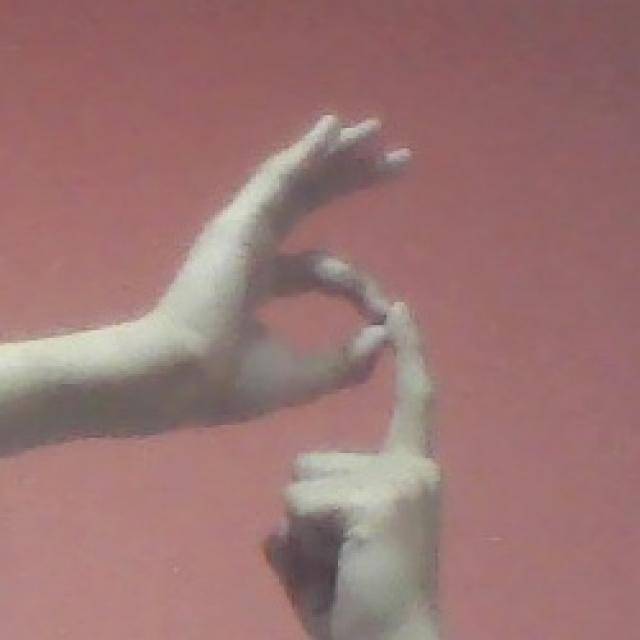Alphabet-P: (160, 97, 484, 640)
